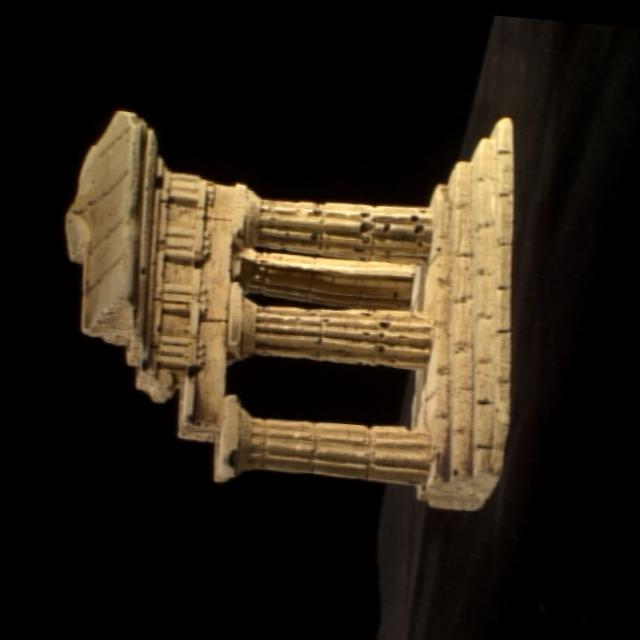Instance-Segmentation: (65, 109, 513, 508)
